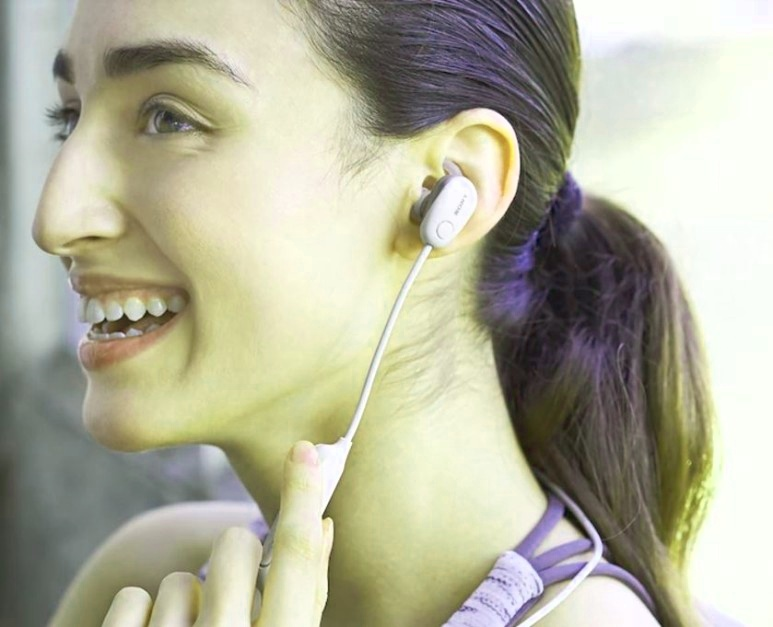earphone: (395, 108, 521, 260)
